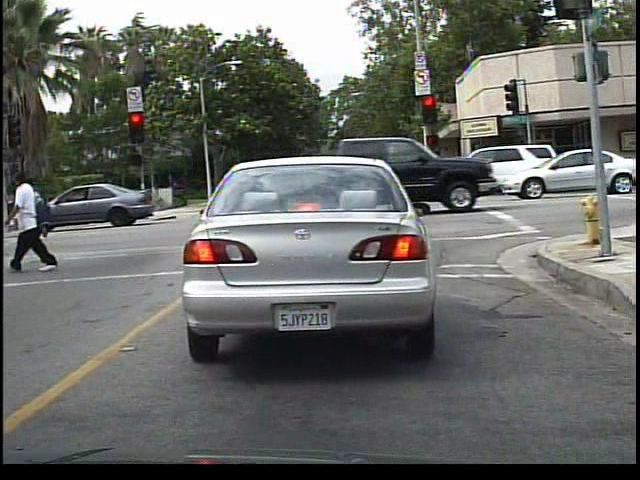person: (7, 165, 62, 273)
